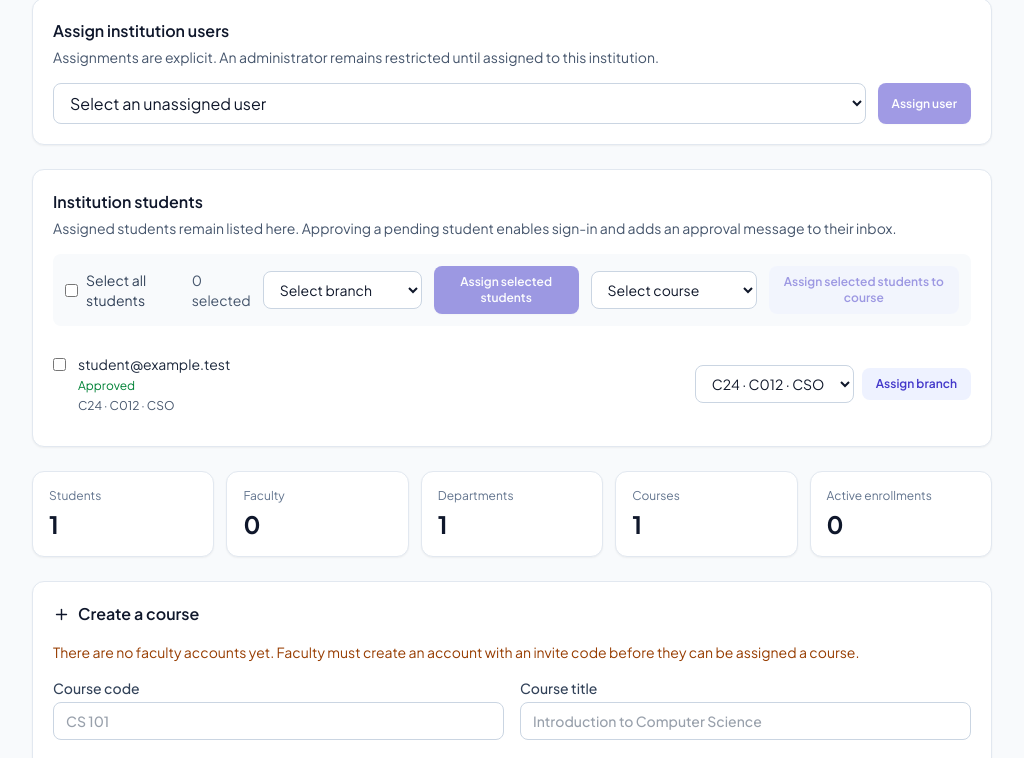
Scenario: admin student branch assignment › resubmits an existing branch selection to synchronize branch course enrollments
(page scrolled)
Check: the dropdown named "Branch for student@example.test" shows "C24 · C012 · CSO", box [695,365,854,403]
Click the button "Assign branch" at (916, 384), box [862,368,971,400]
(page scrolled)
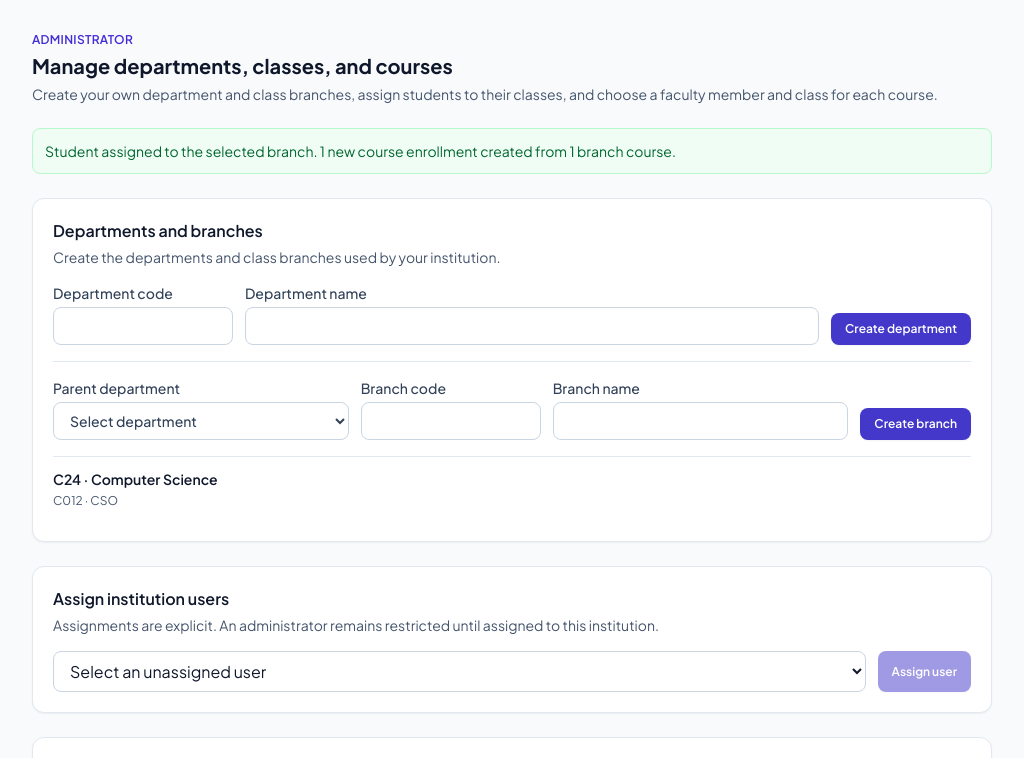
Check: the message shows "1 new course enrollment", box [45,142,676,160]
